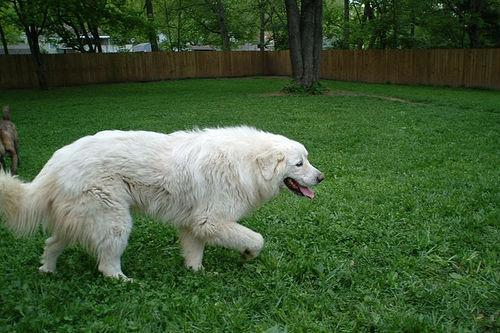Great_Pyrenees: (0, 122, 328, 285)
